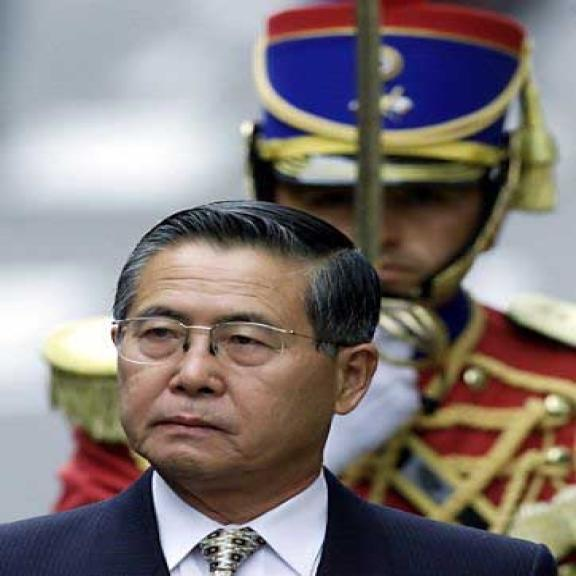face: (125, 242, 382, 480), (268, 157, 478, 288)
